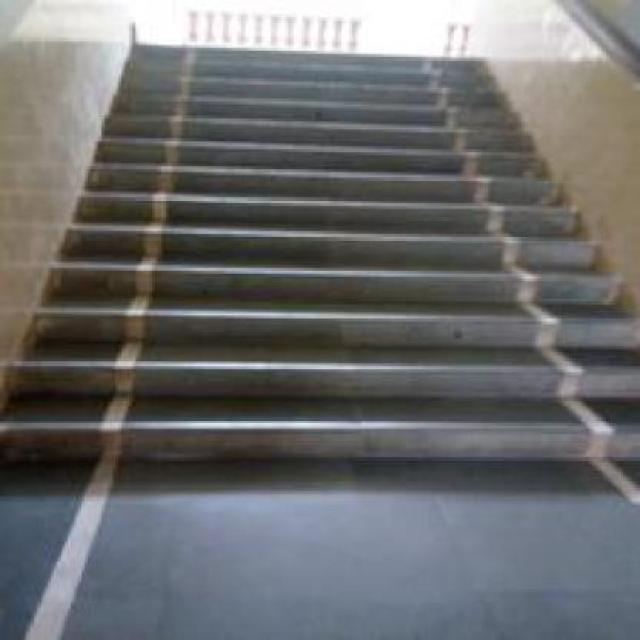stair: (32, 217, 585, 497)
